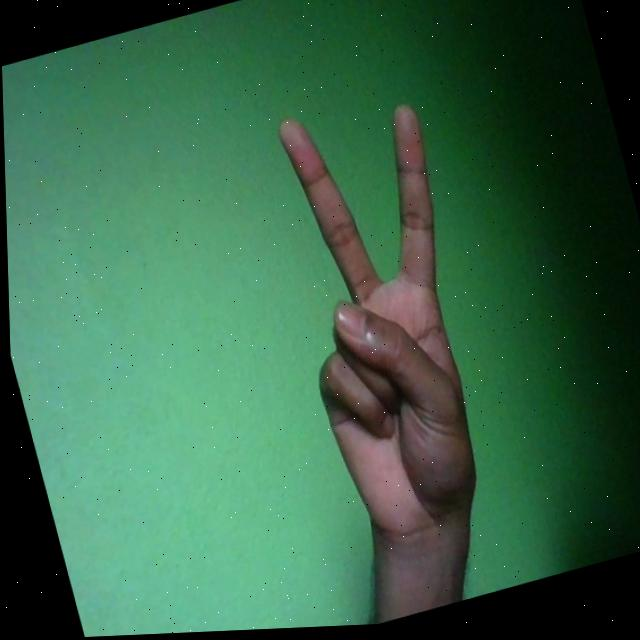Peace: (249, 82, 525, 565)
